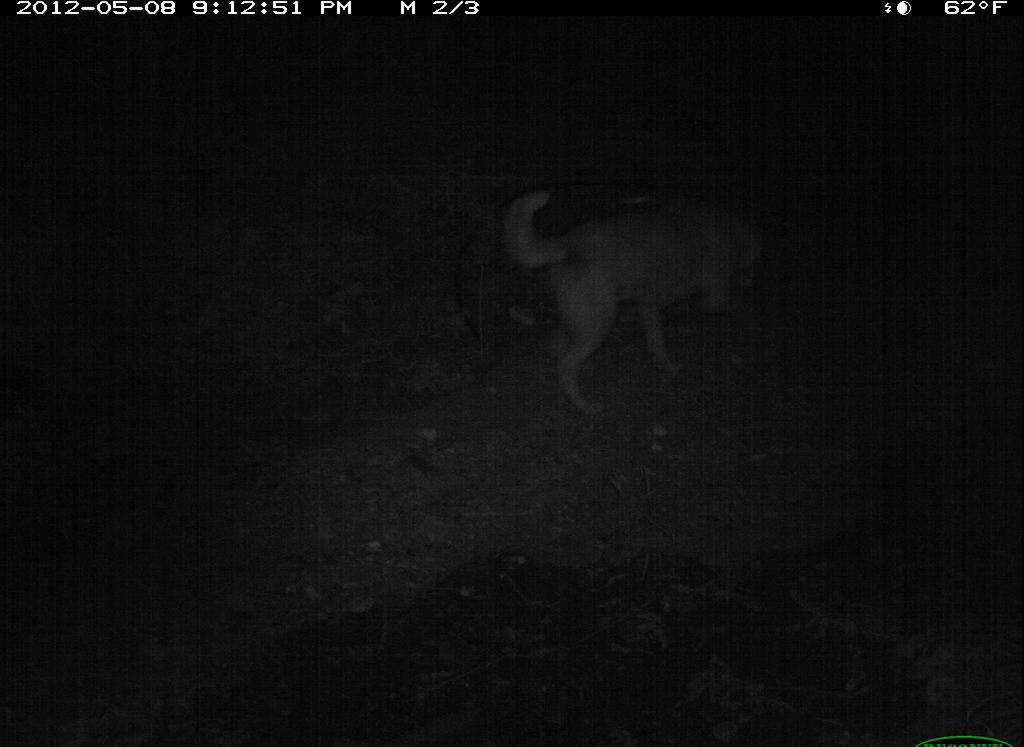dog: (487, 149, 795, 410)
